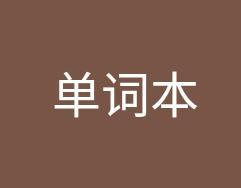TextView: (1, 1, 240, 187)
